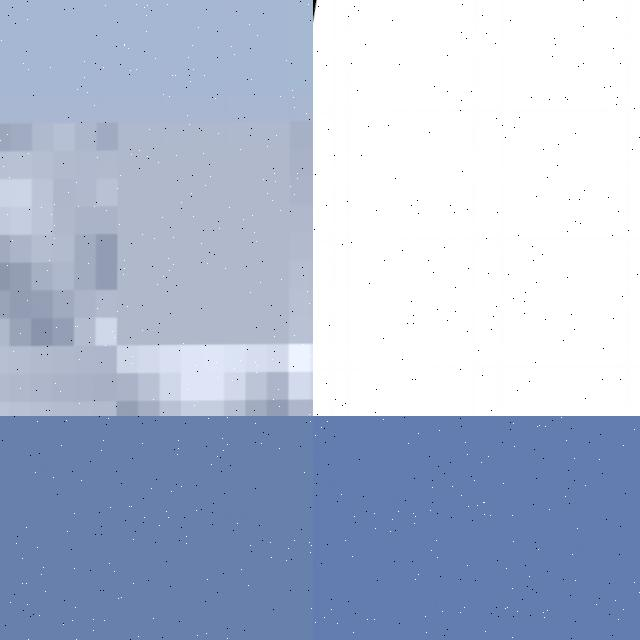drone: (313, 0, 640, 416), (0, 0, 313, 416)
